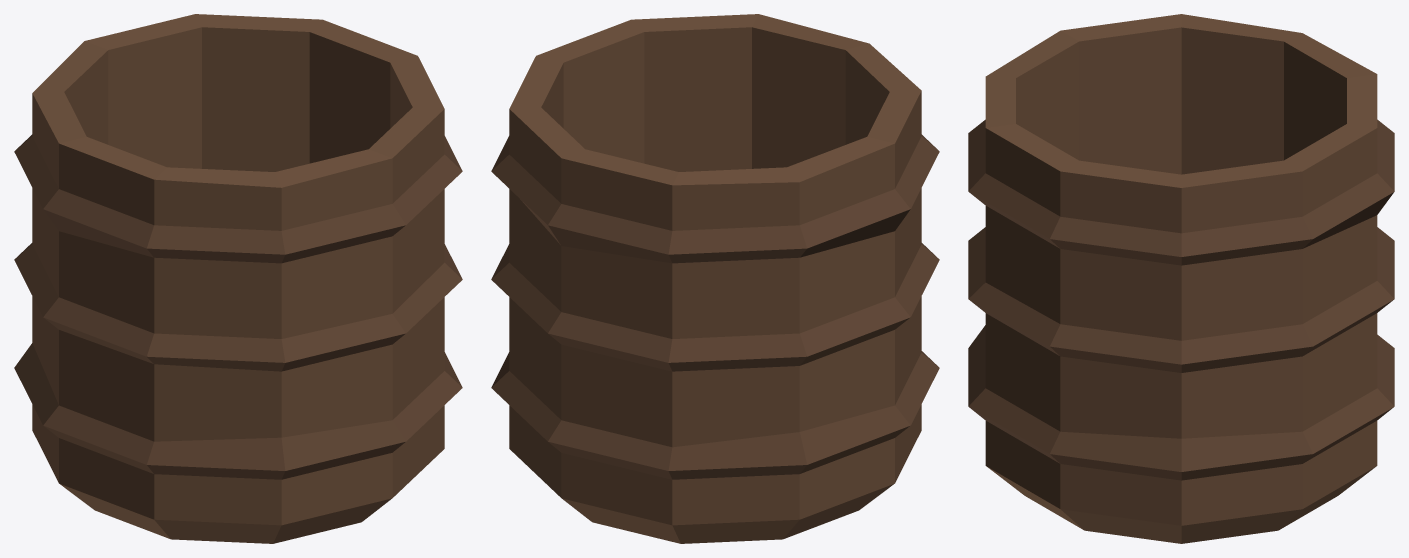
Rendered from SM_Prop_Rusted_Barrel_01.glb.
The picture shows the model from 3 angles, left to right: view 1: azimuth 30°, elevation 25°; view 2: azimuth 150°, elevation 25°; view 3: azimuth 270°, elevation 25°; orthographic projection.
Parts seen in each view (by area): view 1: SM_Prop_Rusted_Barrel_01; view 2: SM_Prop_Rusted_Barrel_01; view 3: SM_Prop_Rusted_Barrel_01.
Boxes of the visible parts, box(x1,y1,x2,y2) form: SM_Prop_Rusted_Barrel_01: box(14, 14, 462, 543); SM_Prop_Rusted_Barrel_01: box(491, 14, 939, 543); SM_Prop_Rusted_Barrel_01: box(968, 14, 1394, 543).
Bounding box in the file's own units: 0.7381 × 0.6784 × 0.702.
Materials: 1 (1 with a texture image).
